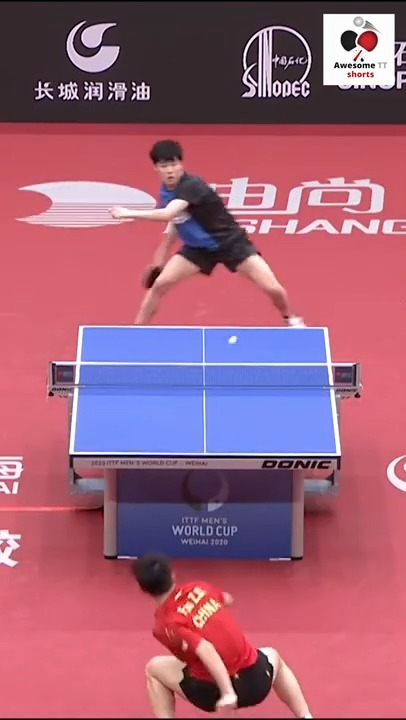Ball: (228, 336, 241, 343)
